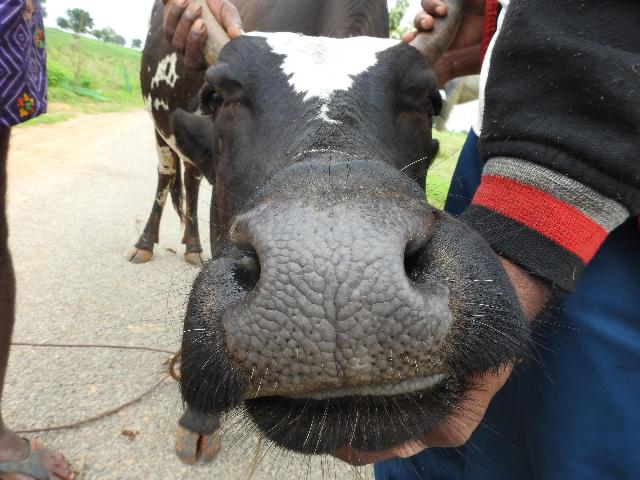Muzzle: (228, 210, 444, 382)
